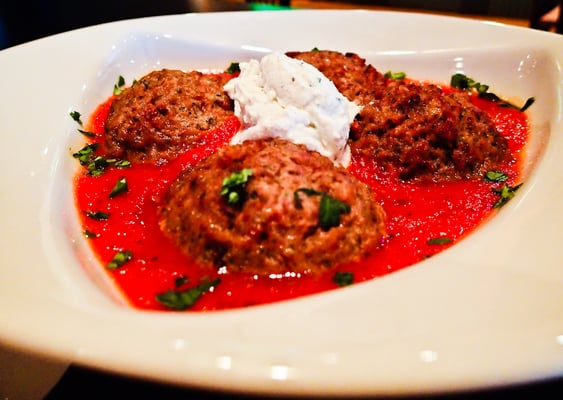curry: (0, 7, 559, 395)
